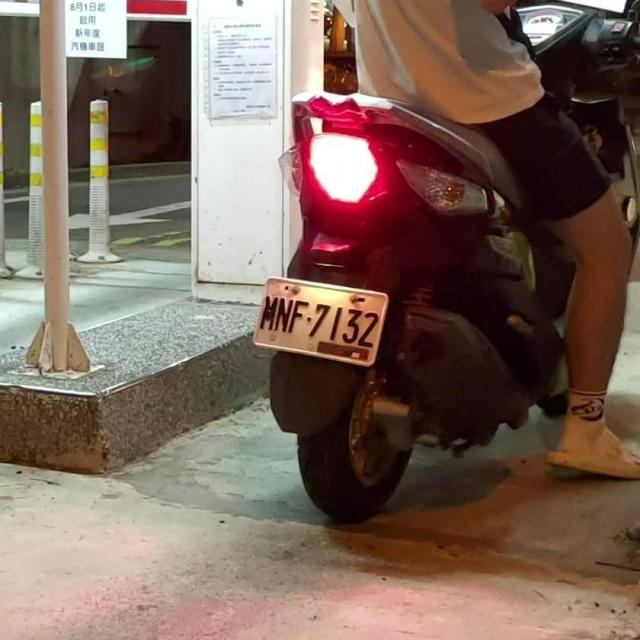W: (250, 272, 388, 367)
